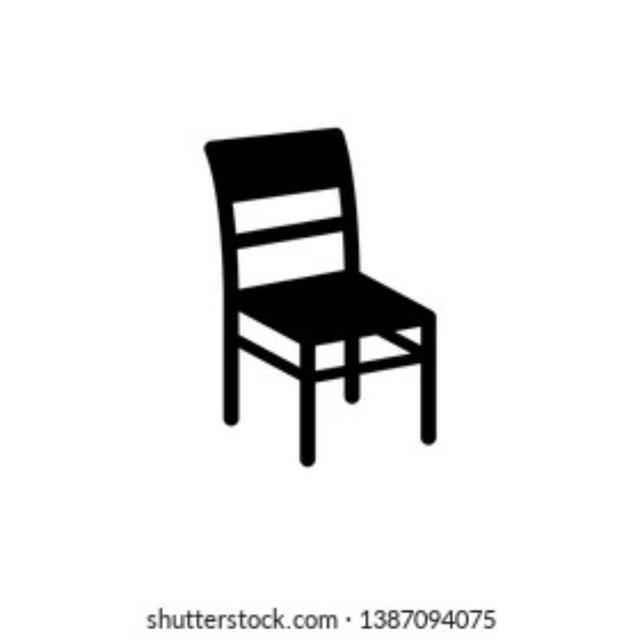obstacle: (162, 84, 488, 476)
